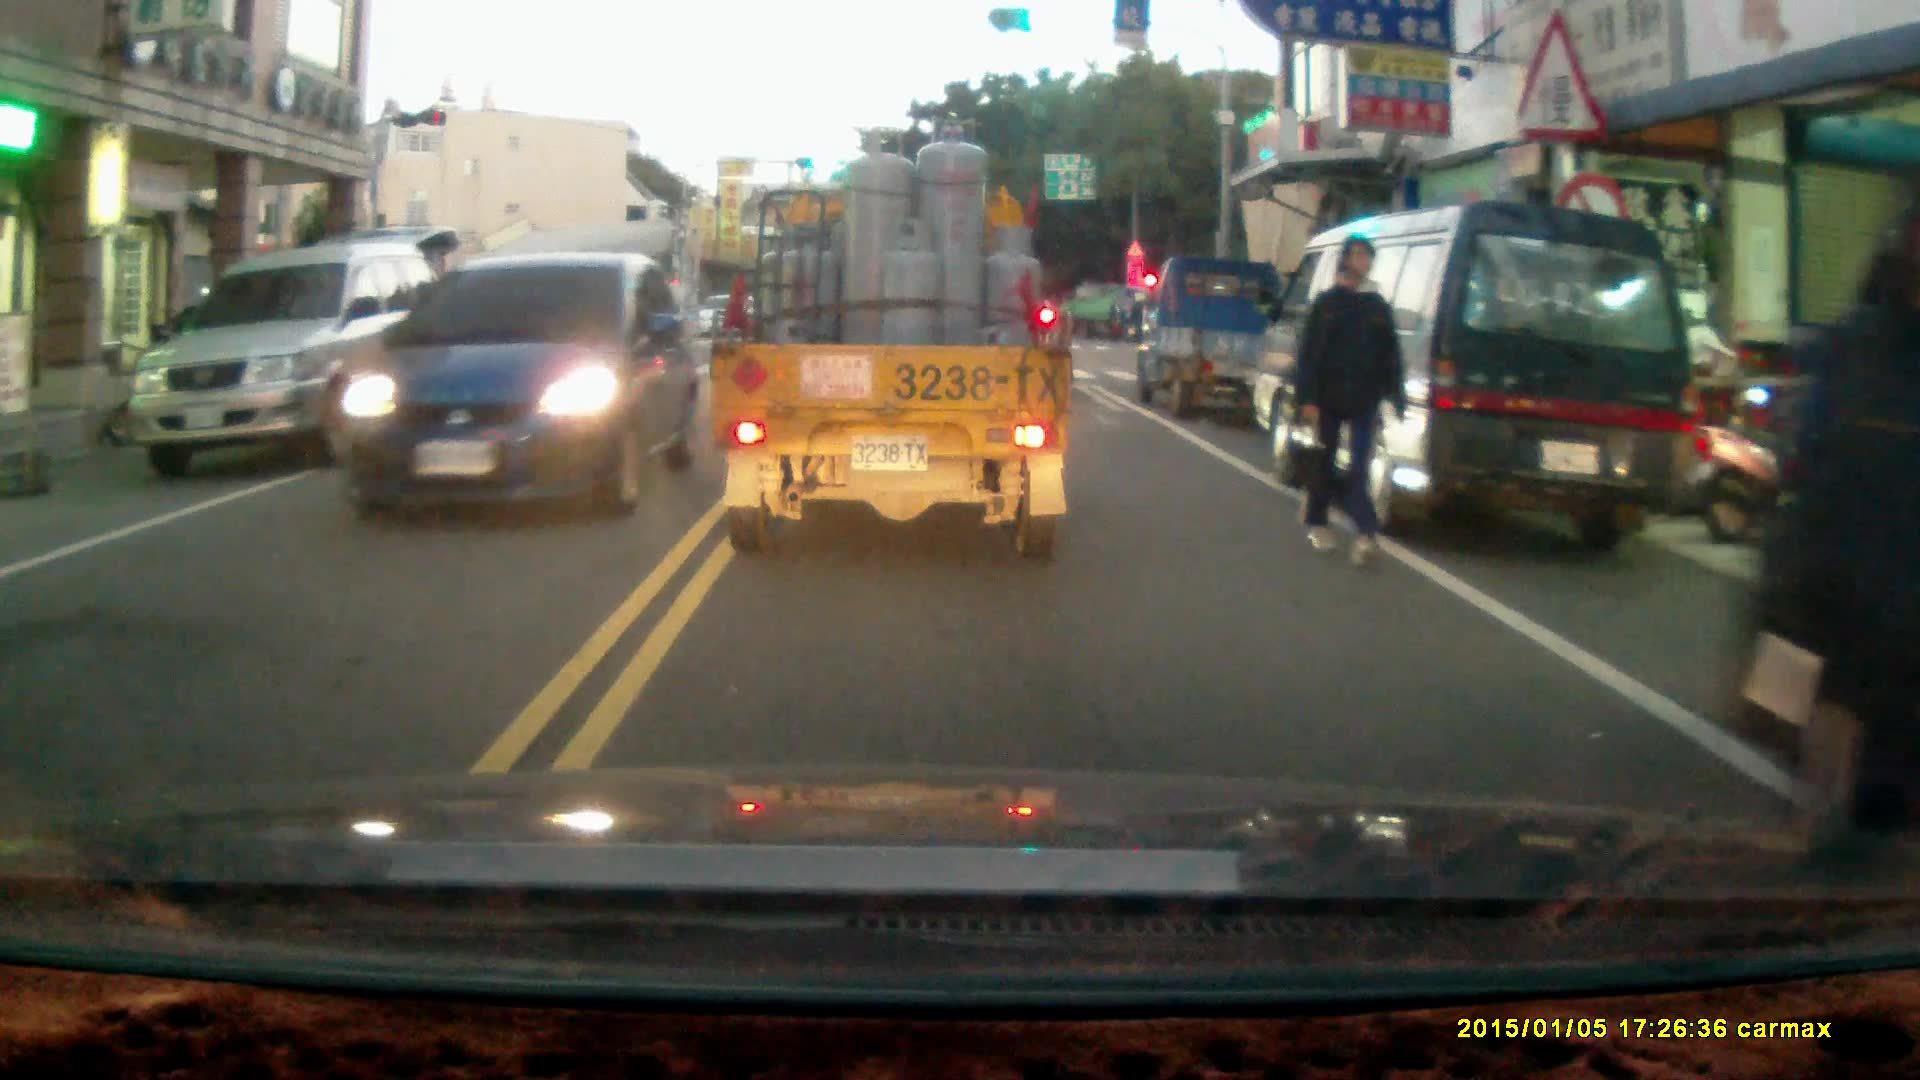pedestrian: (1745, 203, 1920, 914), (1291, 233, 1408, 570)
vehicle: (1256, 198, 1694, 557), (709, 120, 1074, 550), (329, 250, 711, 518), (127, 241, 459, 480), (351, 291, 560, 421), (1124, 247, 1279, 411)
